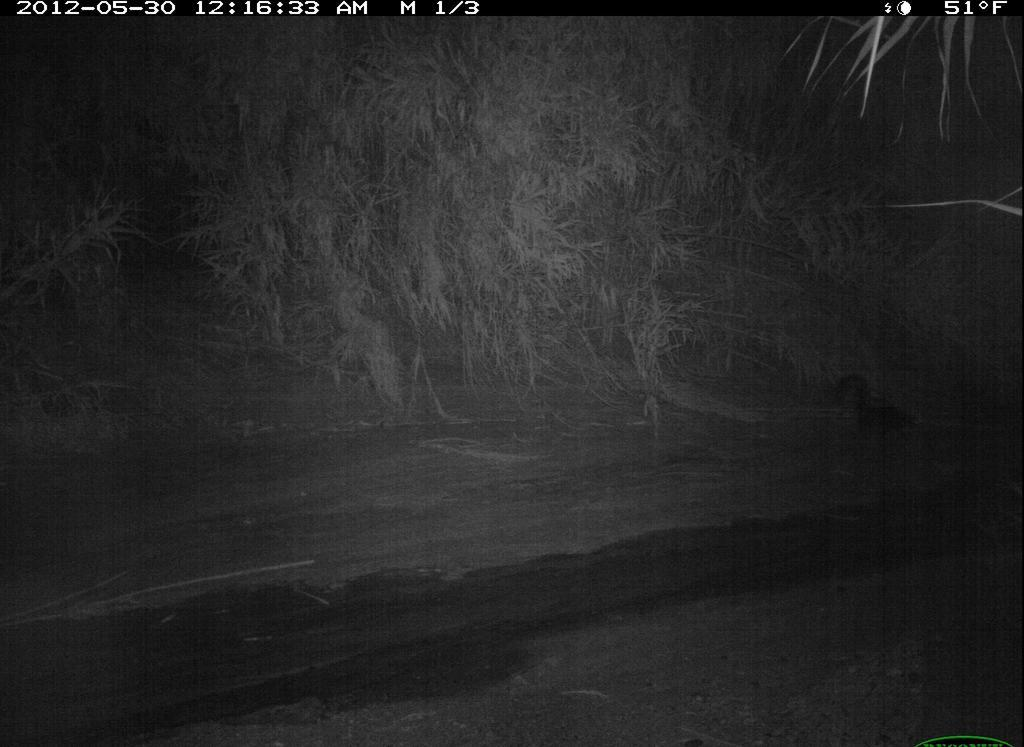skunk: (820, 365, 936, 456)
